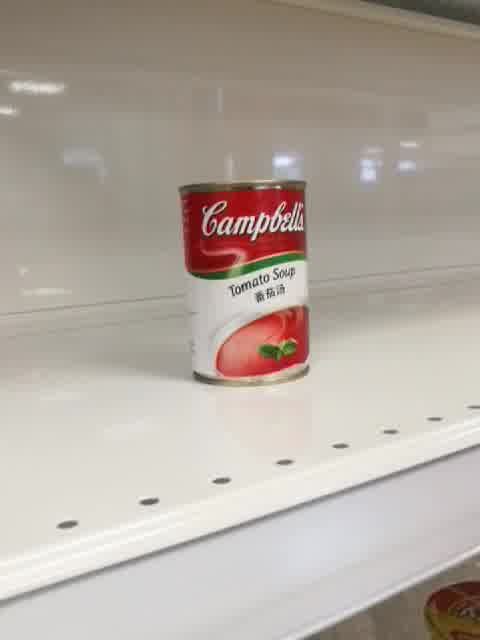tomatosoup: (177, 177, 311, 387)
